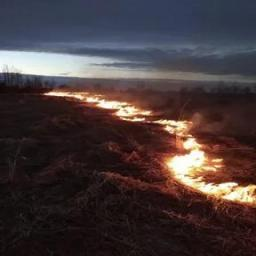Medium fire: (42, 82, 255, 210)
